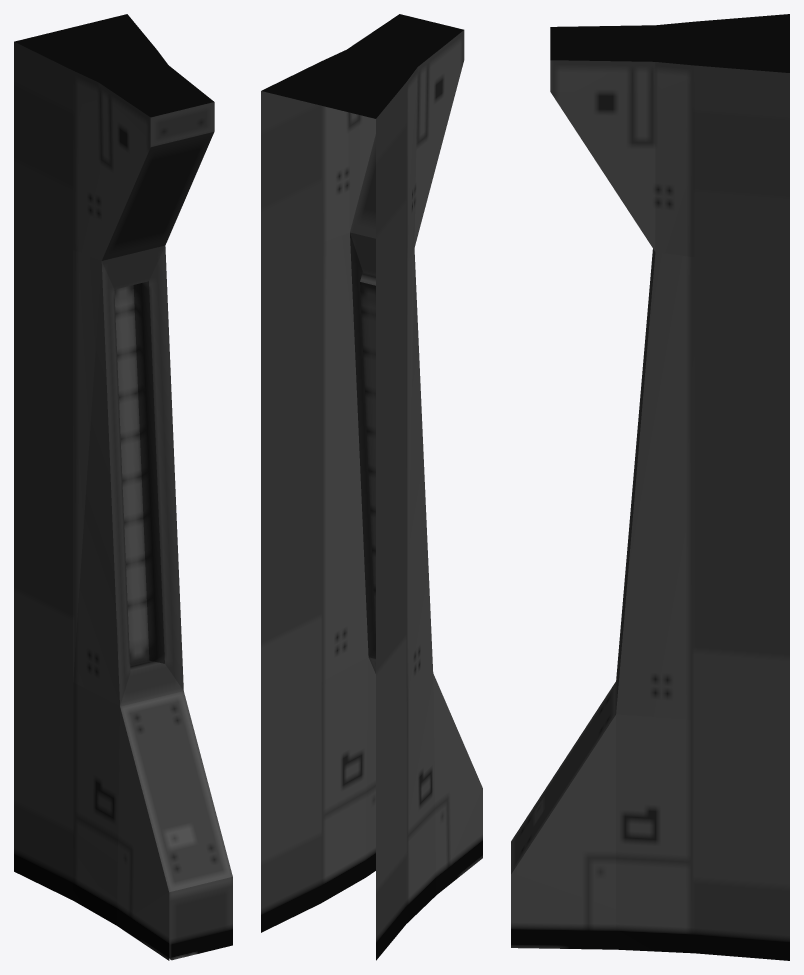
File: Pillar.fbx
3 renders of one model, left to right at view 1: azimuth 30°, elevation 25°; view 2: azimuth 150°, elevation 25°; view 3: azimuth 270°, elevation 25°, orthographic. The views are drawn at different scales.
Parts seen in each view (by area): view 1: Pillars_Back.002; view 2: Pillars_Back.002; view 3: Pillars_Back.002.
Part boxes in pixels (x1=…): Pillars_Back.002: x1=14, y1=14, x2=232, y2=960; Pillars_Back.002: x1=261, y1=14, x2=482, y2=960; Pillars_Back.002: x1=511, y1=14, x2=789, y2=960.
Bounding box in the file's own units: 24.02 × 168 × 47.82.
Materials: 2 (1 with a texture image).
